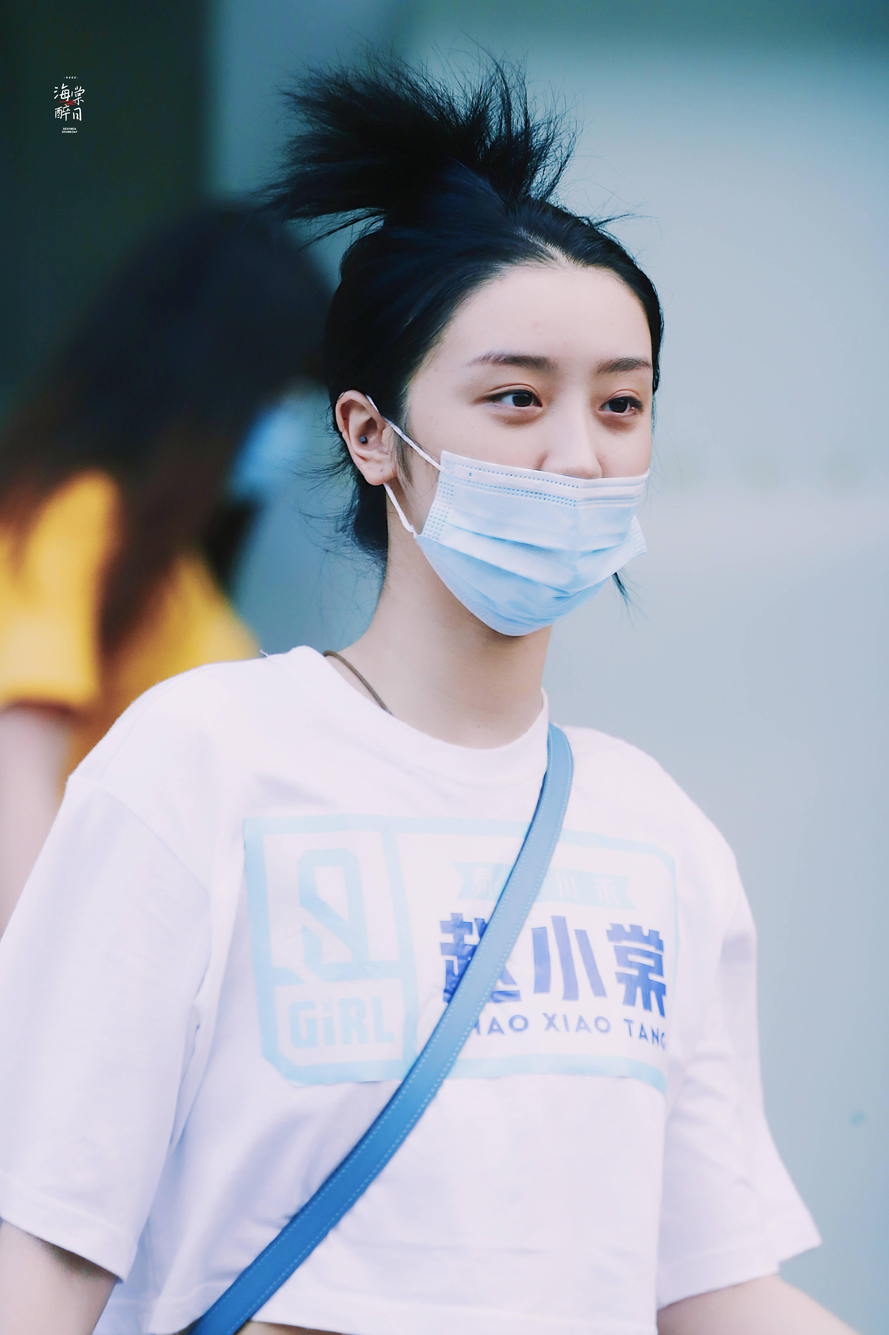WRONG: (403, 325, 652, 641)
